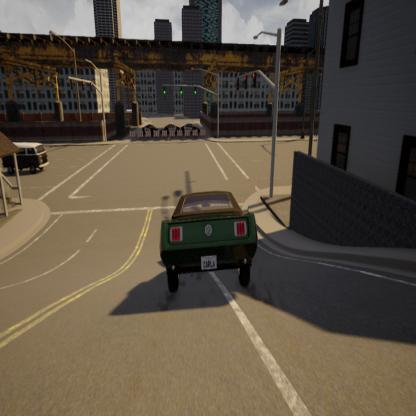Cars: (155, 165, 267, 309), (2, 132, 56, 178)
